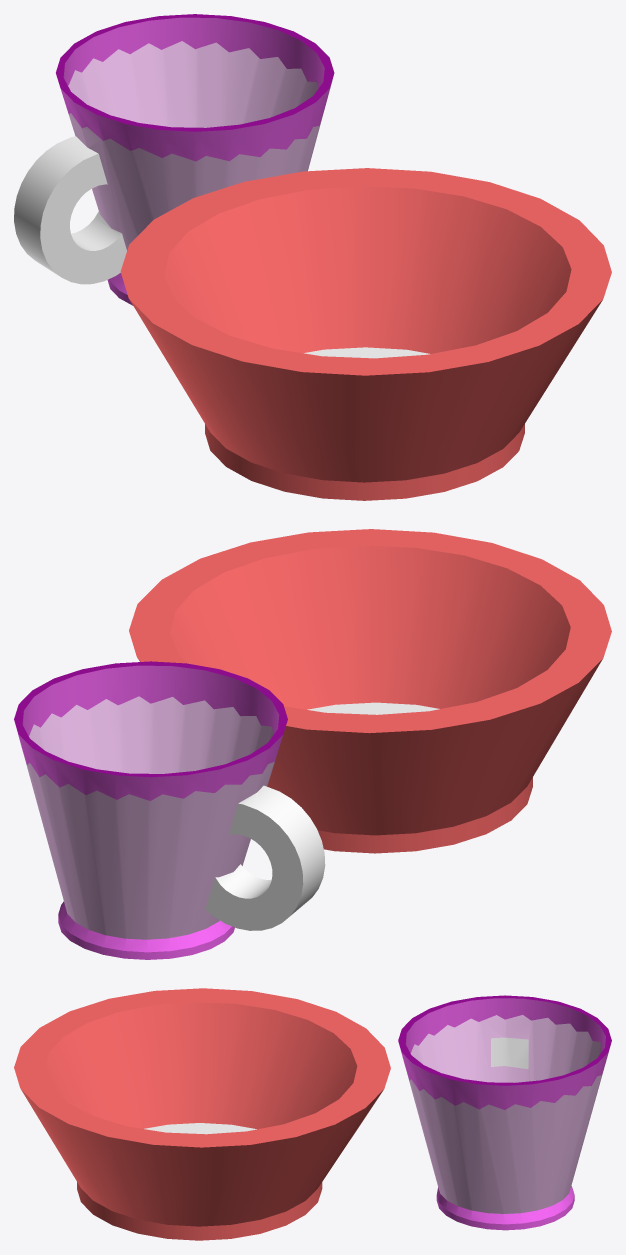
The model's file is tamangsagot.fbx.
3 views of the same model, one above another, from view 1: azimuth 30°, elevation 25°; view 2: azimuth 150°, elevation 25°; view 3: azimuth 270°, elevation 25° (orthographic). The views are drawn at different scales.
Visible parts, largest first — view 1: Model; view 2: Model; view 3: Model.
Part boxes in pixels (box(x1,y1,x2,y2)): Model: box(14, 14, 611, 500); Model: box(14, 529, 611, 959); Model: box(14, 988, 611, 1240).
Bounding box in the file's own units: 16.1 × 7.5 × 25.54.
